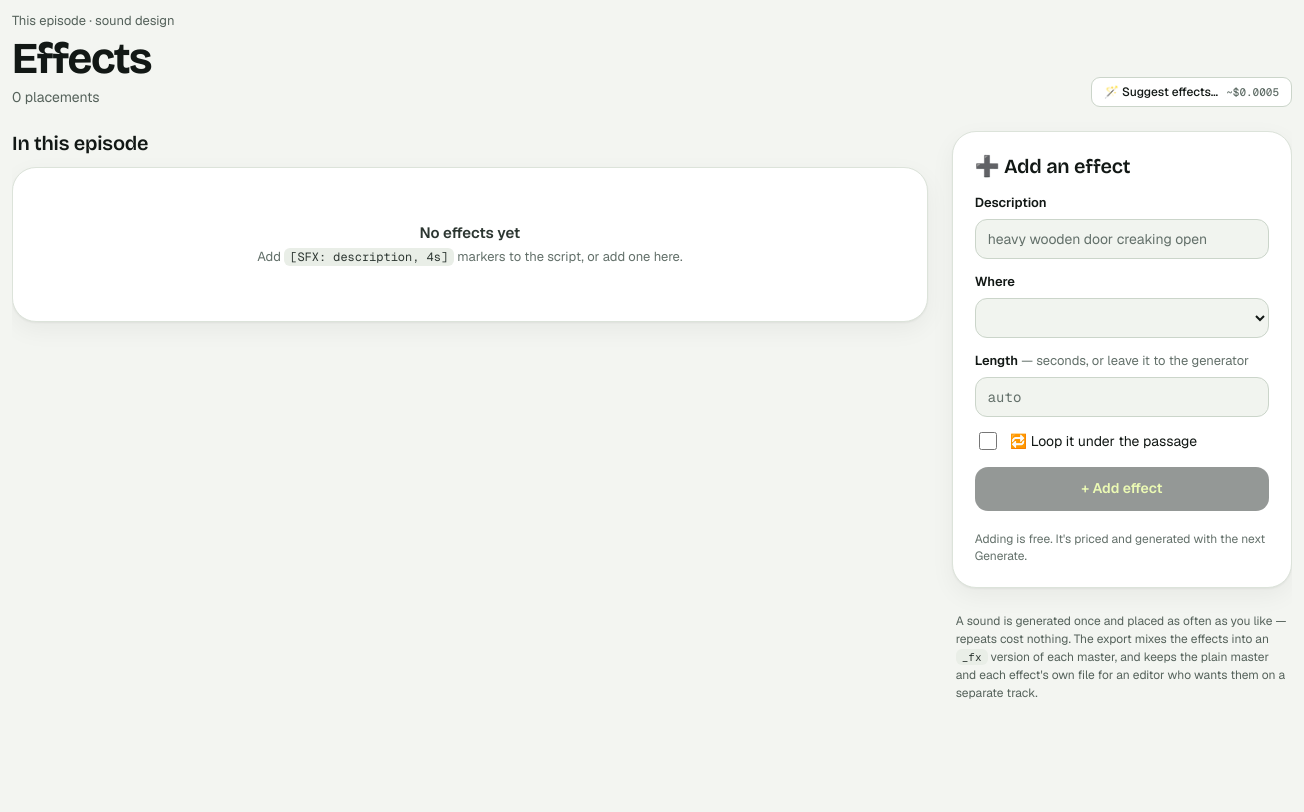
it: suggesting effects › shows the price first, and what it cost after
Step 1. Click the button "🪄 Suggest effects… ~$0.0005" → (1192, 92), box [1091, 77, 1292, 107]
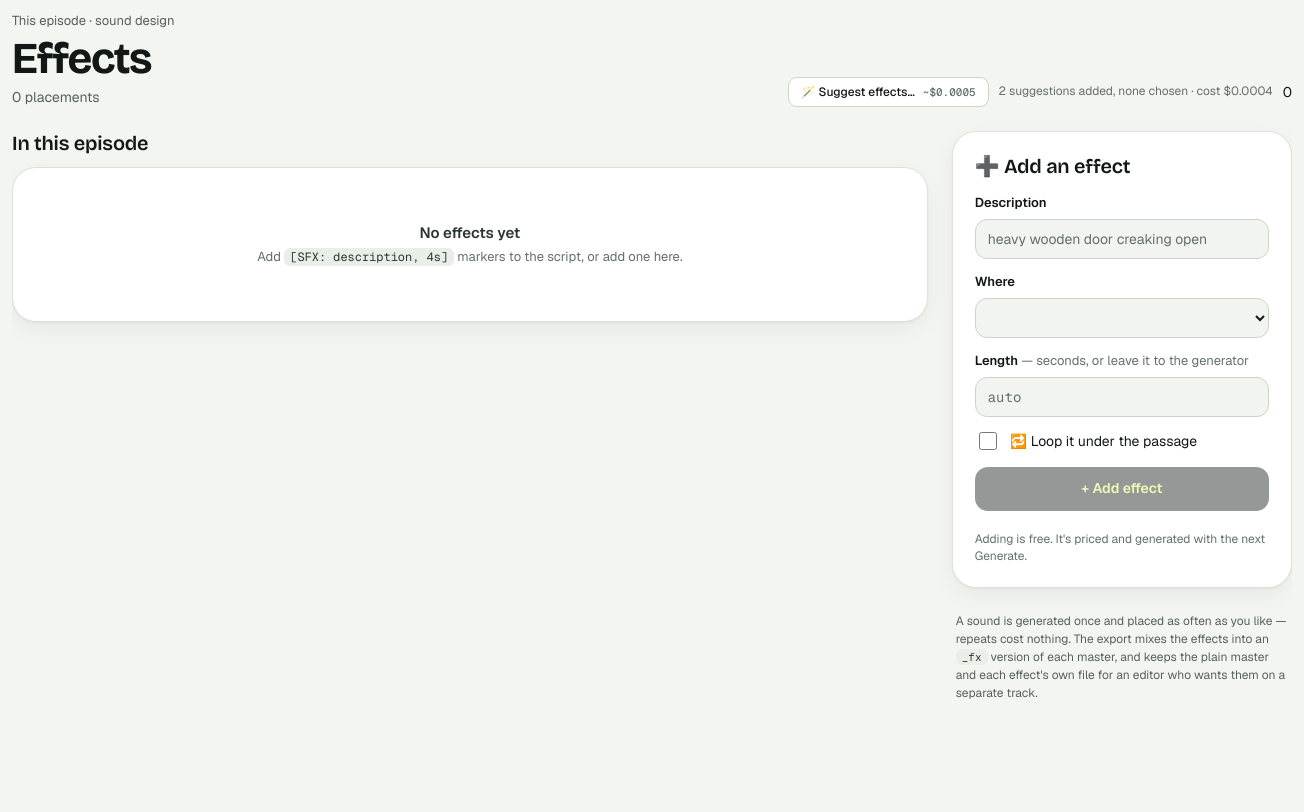
Check: the text "2 suggestions added, none chosen · cost $0.0004" is shown, box [999, 83, 1273, 101]
